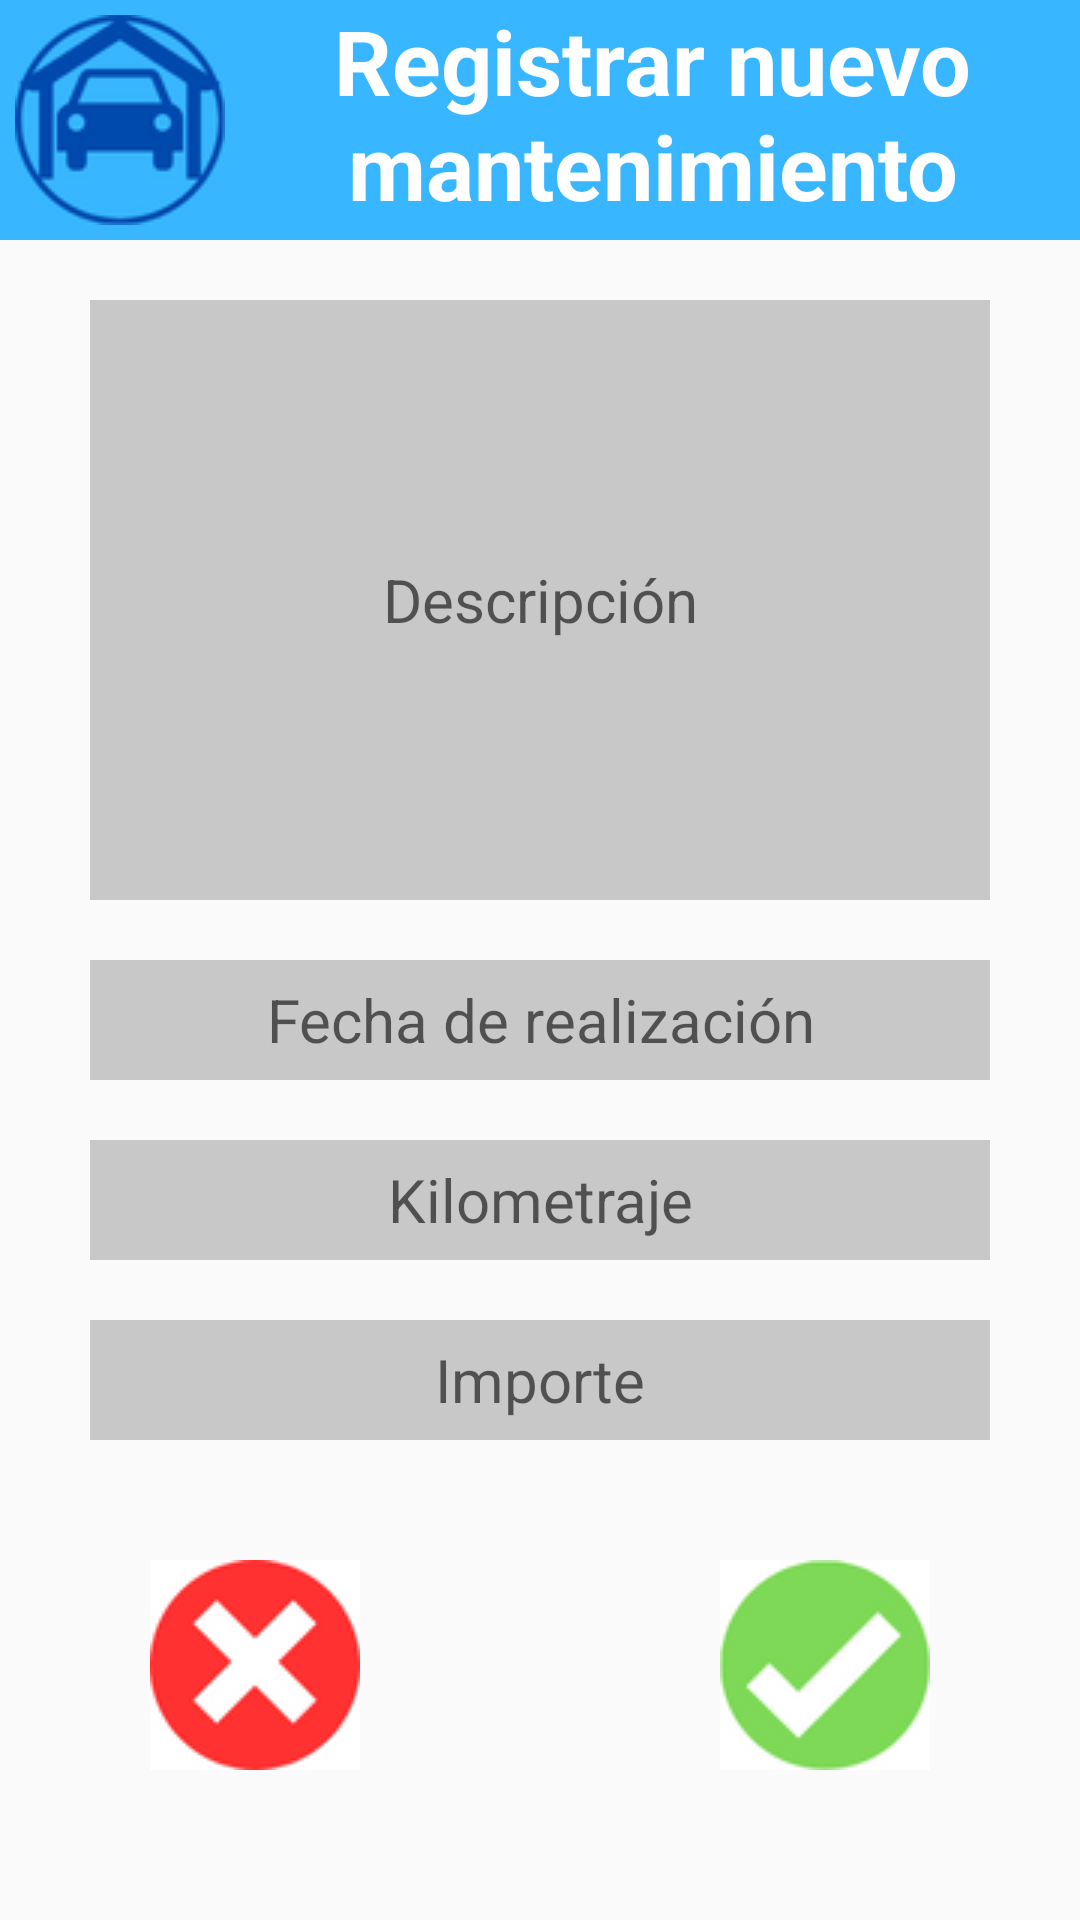

Named icons in this screenshot (1080w x 1920h) and their bounding boxes, detection(x1, y1, x2, y2):
aceptar: detection(720, 1560, 930, 1770)
cancelar: detection(150, 1560, 360, 1770)
garaje: detection(15, 15, 225, 225)
